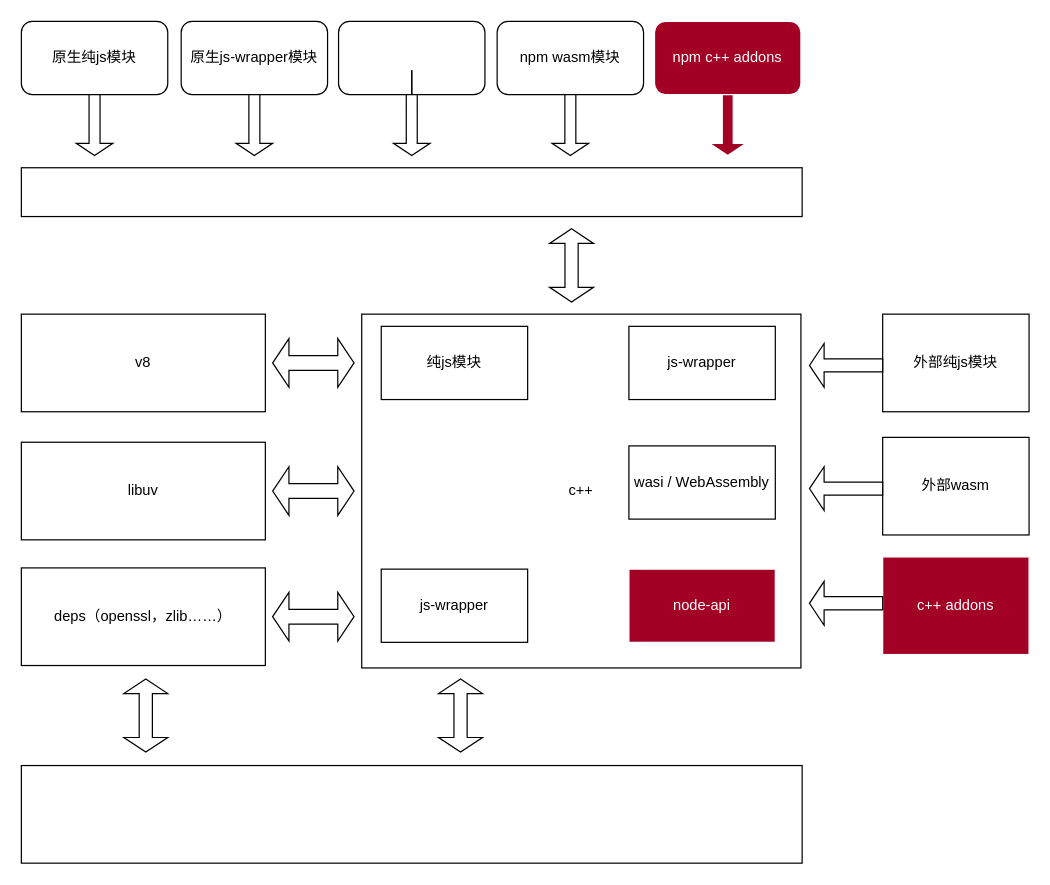
Image size: 1050x885. Some labels were removed from this diagram. The centre of each missing label's shape, as x and y in pixels:
"npm纯js模块" belongs at point 411,57.
"require binding" belongs at point 411,192.
"原生c++模块（fs，buffer，net，http，os……）" belongs at point 411,813.
